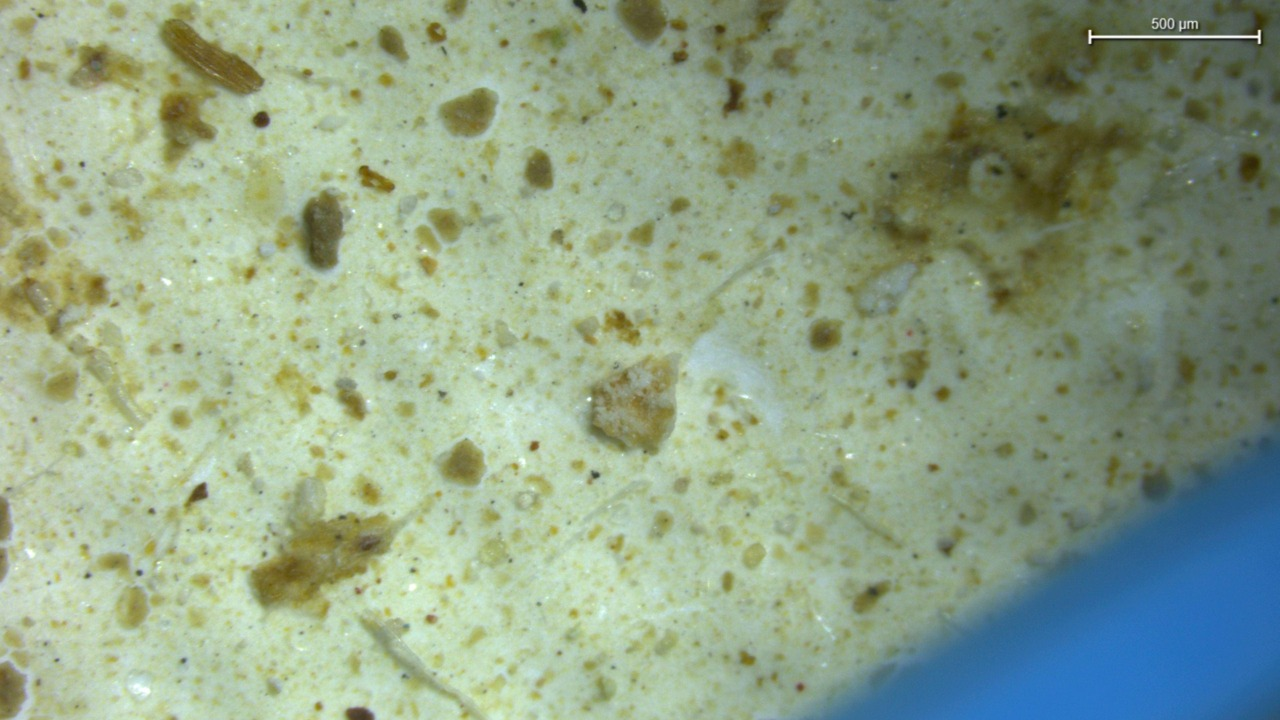microplastic_fragment: (589, 357, 678, 453)
